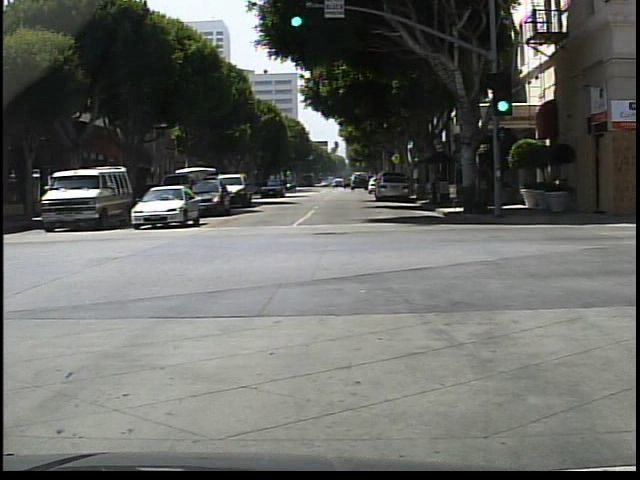person: (479, 160, 491, 212), (427, 165, 441, 206)
